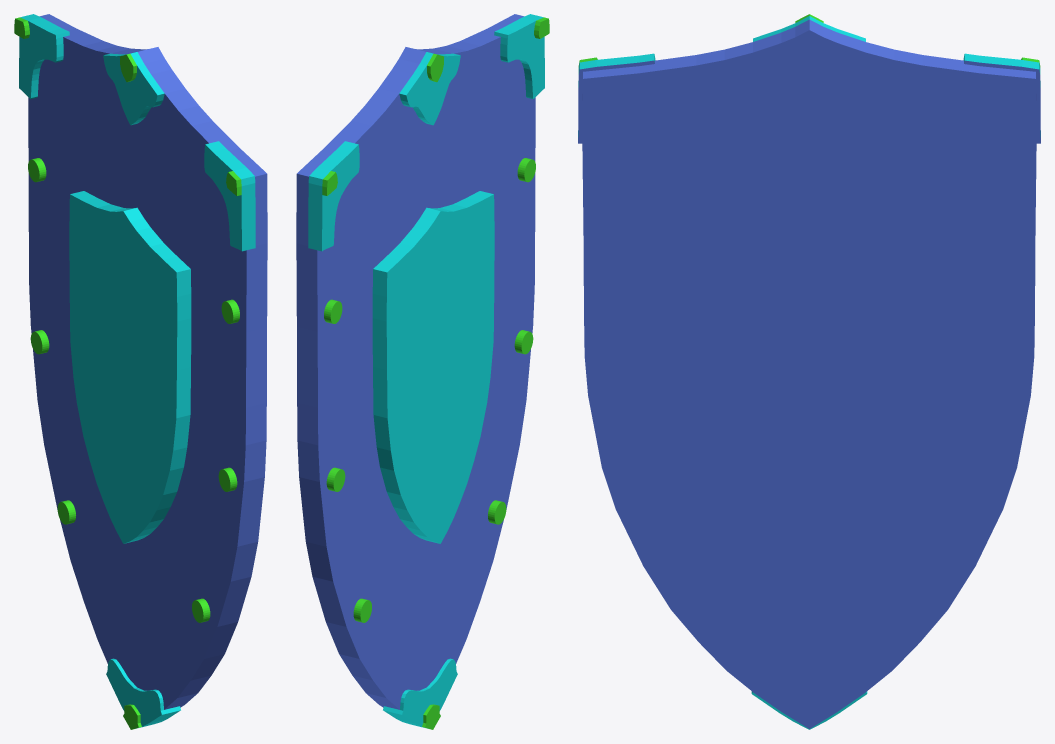
The model's file is escudo.fbx.
3 views of the same model, side by side, from view 1: azimuth 30°, elevation 25°; view 2: azimuth 150°, elevation 25°; view 3: azimuth 270°, elevation 25° (orthographic). The views are drawn at different scales.
Visible parts, largest first — view 1: escudo; view 2: escudo; view 3: escudo.
Part boxes in pixels (x1,y1,x2,y2): escudo: [14, 14, 267, 729]; escudo: [296, 14, 549, 729]; escudo: [578, 14, 1040, 729].
Size of the model in its own units: 8.29 by 153 by 91.47.
